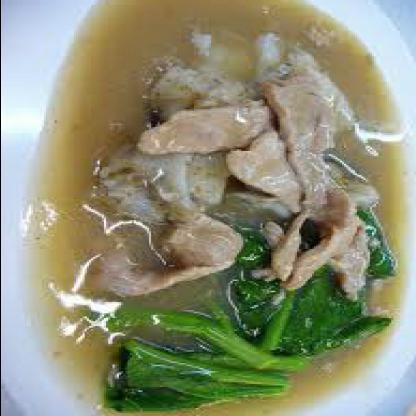Laadna: (2, 22, 397, 415)
